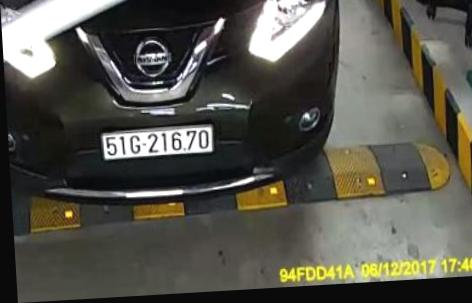License_Plate: (93, 118, 217, 166)
